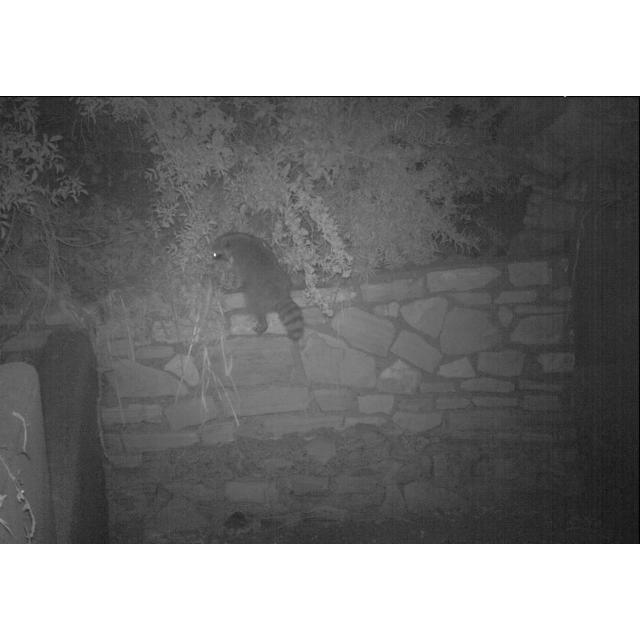animals: (210, 230, 308, 340)
